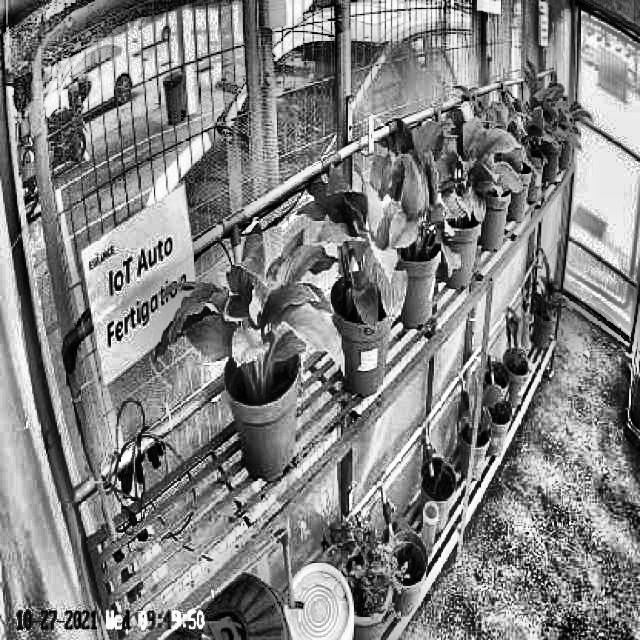plants: (154, 224, 346, 396), (292, 166, 406, 322), (356, 117, 461, 280), (416, 108, 522, 232)
